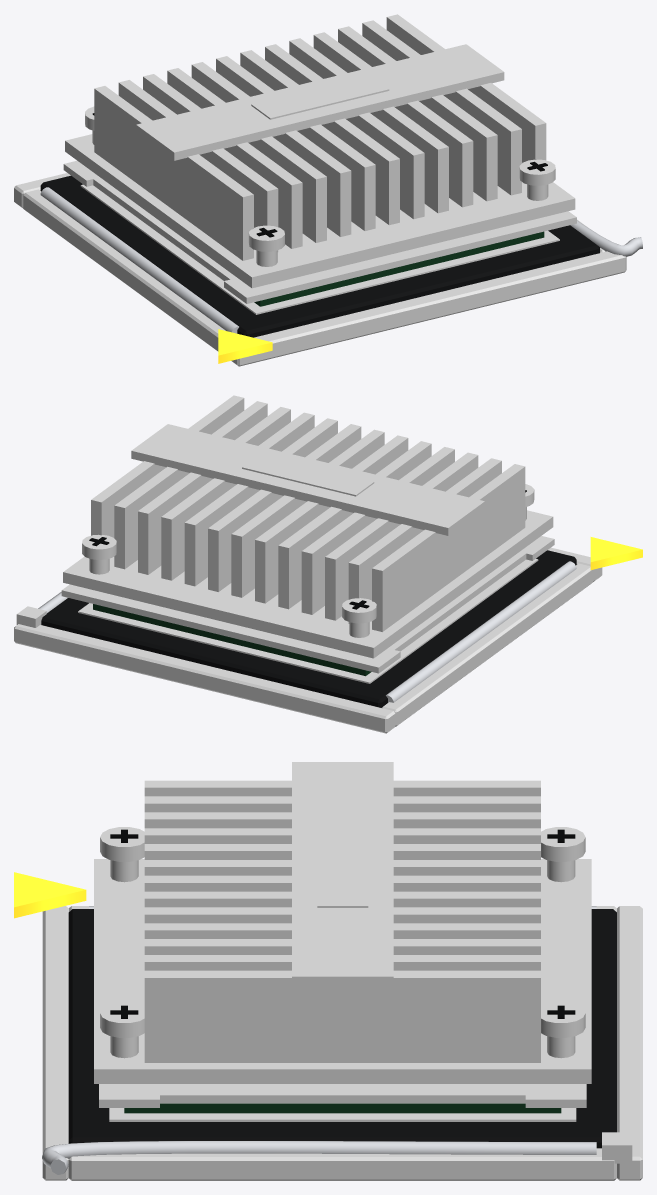
Rendered from asm_cpu_t0.glb.
3 renders of one model, top to bottom at view 1: azimuth 30°, elevation 25°; view 2: azimuth 150°, elevation 25°; view 3: azimuth 270°, elevation 25°, orthographic. The views are drawn at different scales.
Visible parts, largest first — view 1: Cooler, Socket, Frame, CPU, Screw_3, Screw_1, Lever; view 2: Cooler, Socket, Frame, CPU, Screw_2, Screw_0; view 3: Cooler, Socket, Frame, Lever, CPU, Screw_1, Screw_3, Screw_0, Screw_2.
Boxes of the visible parts, x1,y1,x2,y2 form: Cooler: [65, 14, 575, 288]; Socket: [14, 173, 626, 366]; Frame: [63, 160, 576, 303]; CPU: [254, 231, 544, 306]; Screw_3: [519, 159, 555, 200]; Screw_1: [248, 225, 284, 266]; Lever: [570, 220, 642, 256]; Cooler: [63, 395, 553, 658]; Socket: [14, 537, 642, 733]; Frame: [61, 536, 554, 673]; CPU: [93, 604, 371, 676]; Screw_2: [82, 534, 116, 574]; Screw_0: [342, 598, 376, 637]; Cooler: [94, 762, 591, 1083]; Socket: [14, 872, 642, 1180]; Frame: [99, 1084, 586, 1107]; Lever: [42, 1141, 596, 1174]; CPU: [124, 1103, 561, 1113]; Screw_1: [100, 827, 144, 882]; Screw_3: [100, 1003, 144, 1058]; Screw_0: [541, 827, 585, 882]; Screw_2: [541, 1003, 585, 1058].
Size of the model in its own units: 0.1338 by 0.0409 by 0.1239.
